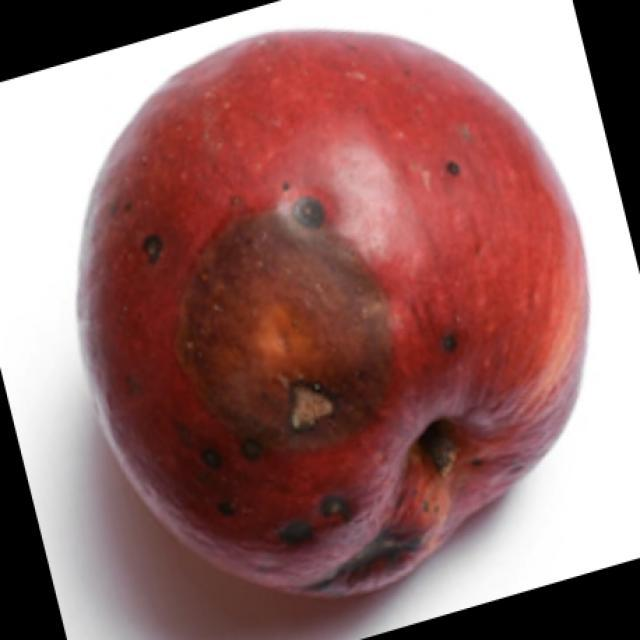Rotten: (80, 44, 598, 578)
